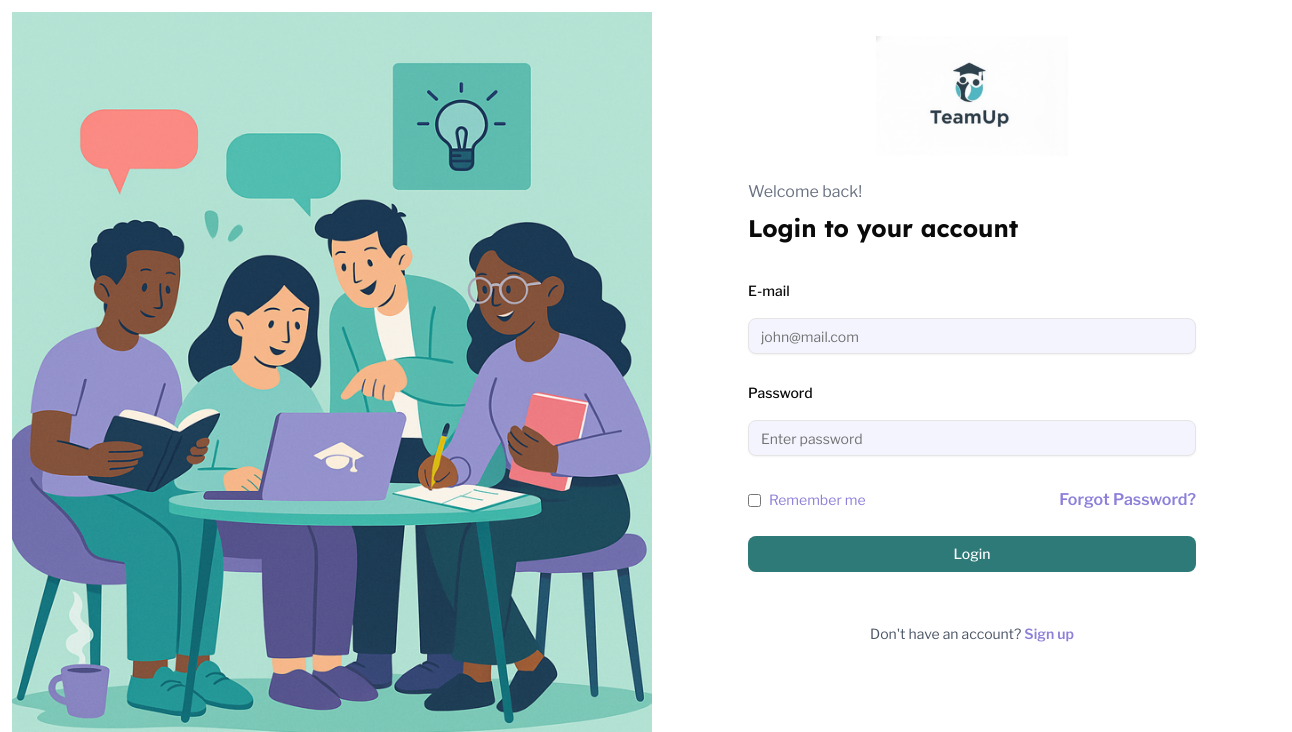
Test: Login Page E2E Tests › Form Validation - Client Side › should show validation error for password less than 6 characters
The width and height of the screenshot is (1292, 732).
# Type a valid email
In the field with placeholder "john@mail.com": (972, 336) x1=748 y1=318 x2=1196 y2=354, type "test@mail.com"
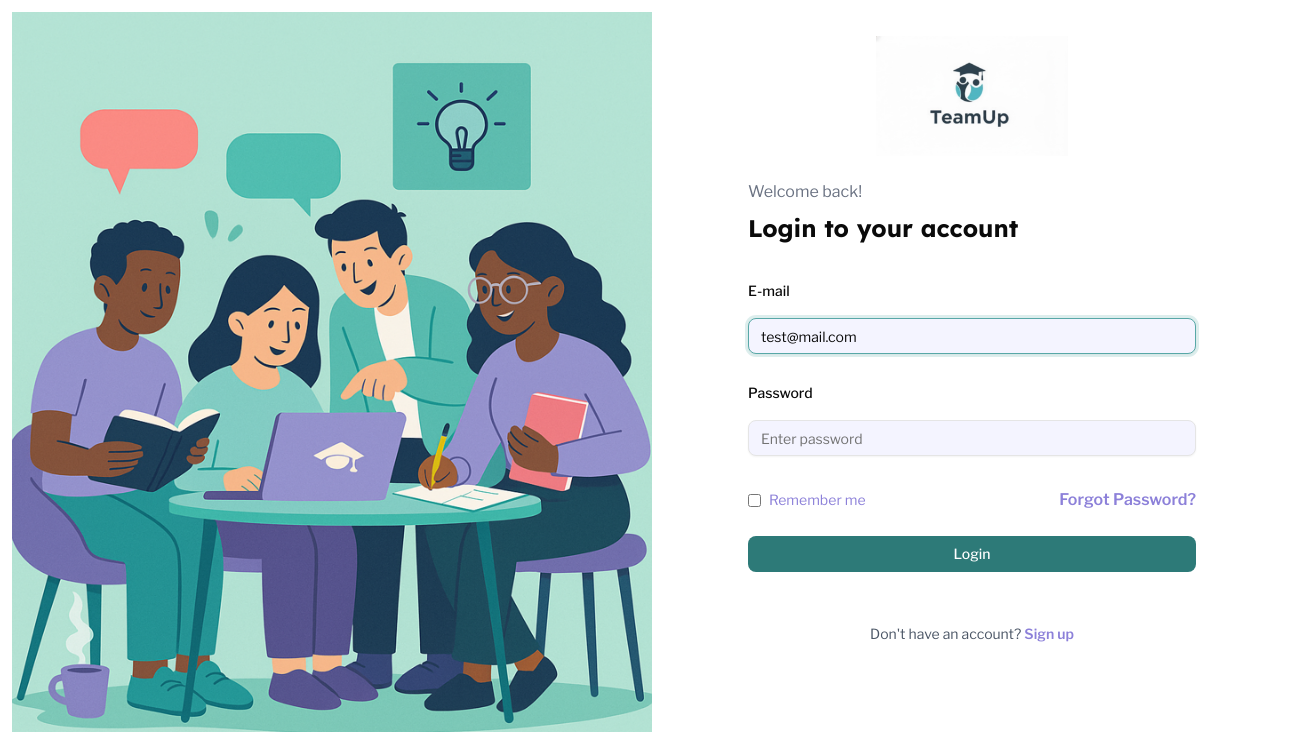
In the password field with placeholder "Enter password": (972, 438) x1=748 y1=420 x2=1196 y2=456, type "12345"
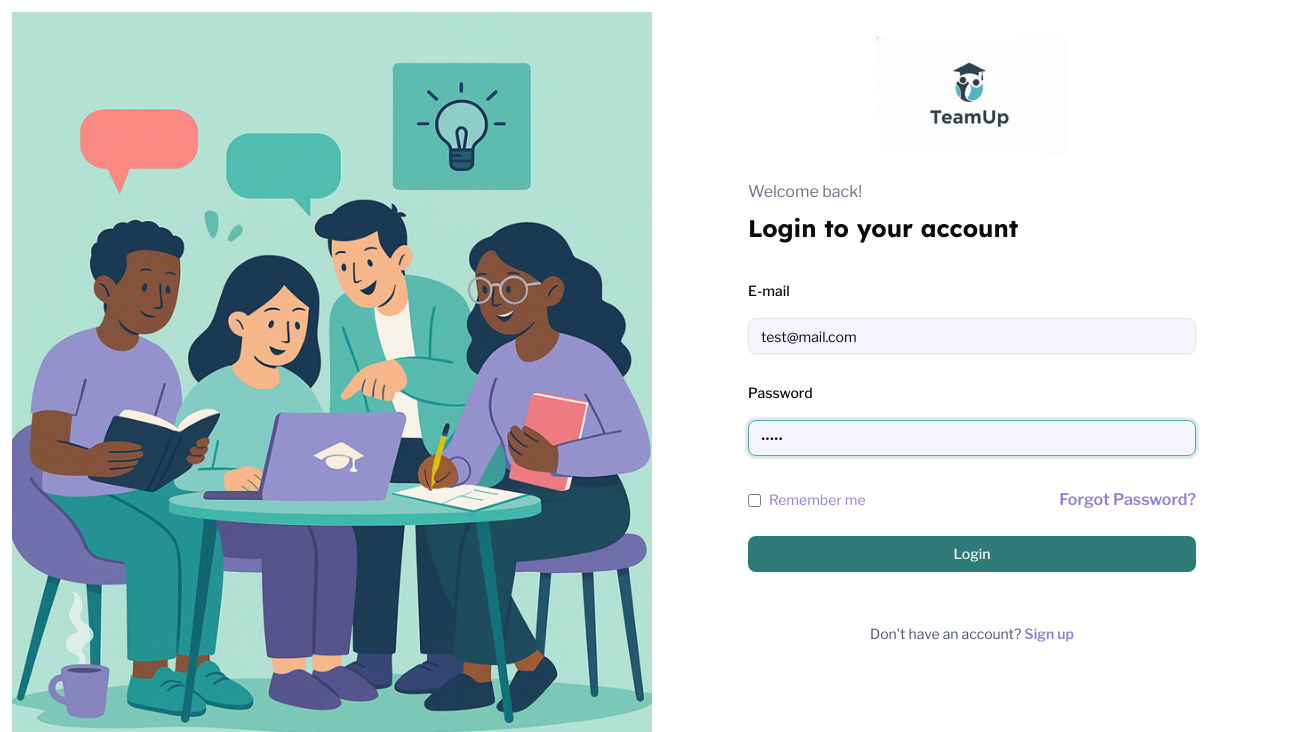
# Attempt to submit the form
Click the button "Login": (972, 554) x1=748 y1=536 x2=1196 y2=572
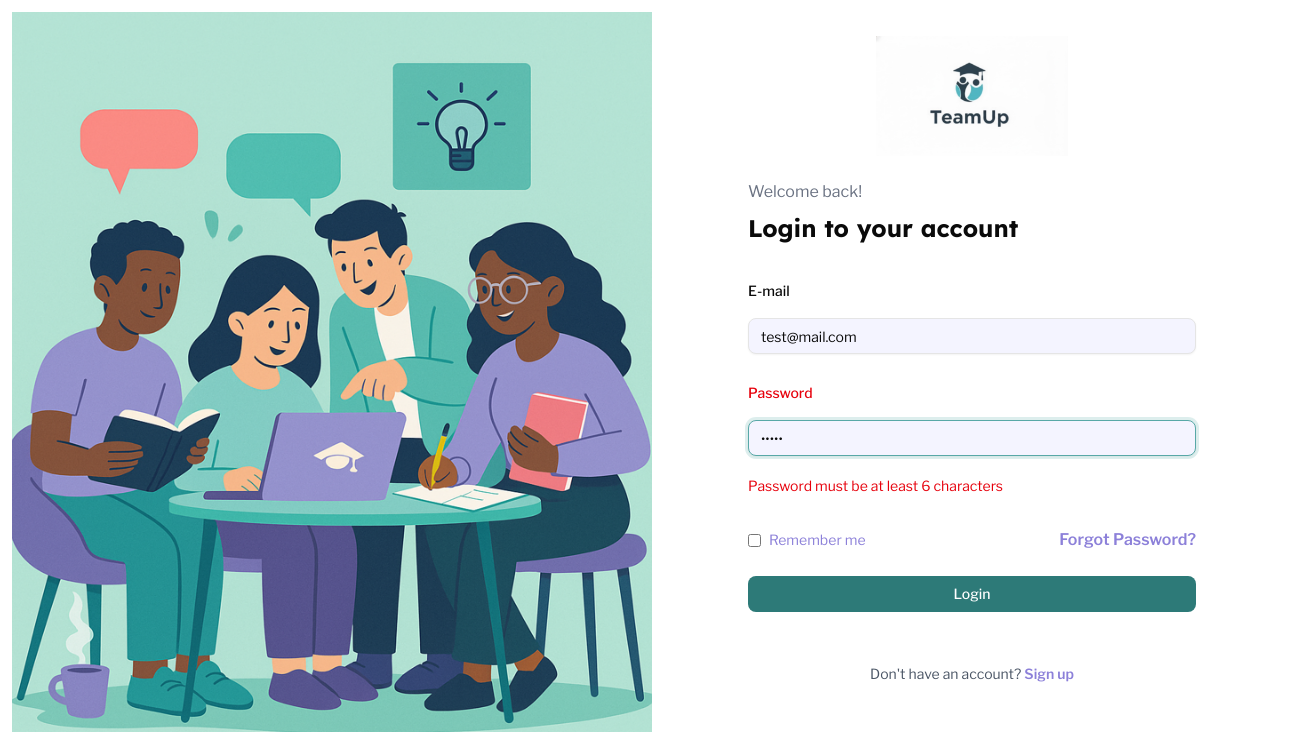
Expected: the text "Password must be at least 6 characters" is shown, x1=748 y1=477 x2=1003 y2=494
